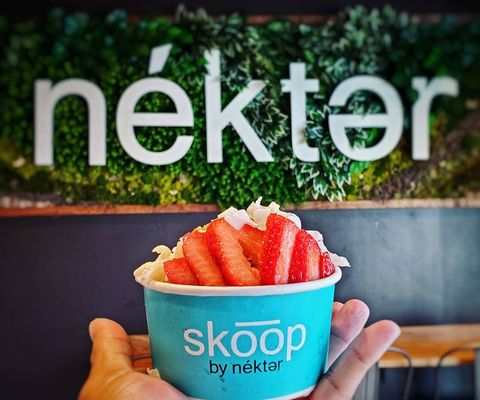pizza: (134, 212, 343, 397)
